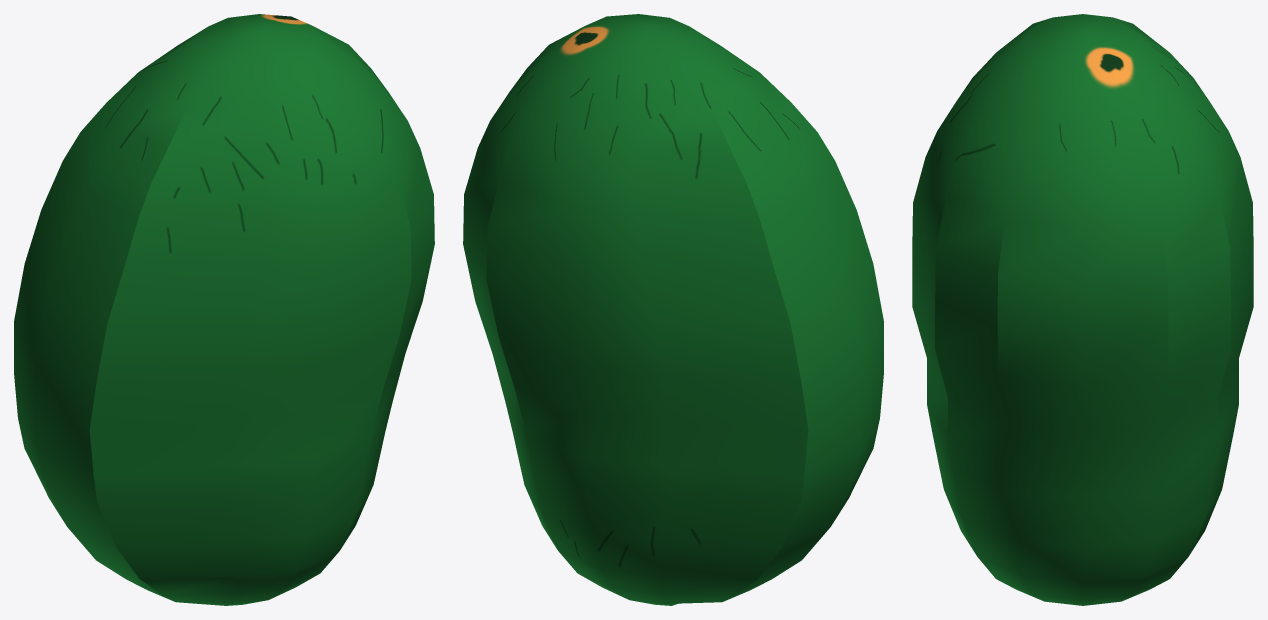
File: Mangue.fbx
The picture shows the model from 3 angles, left to right: view 1: azimuth 30°, elevation 25°; view 2: azimuth 150°, elevation 25°; view 3: azimuth 270°, elevation 25°; orthographic projection. The views are drawn at different scales.
Parts seen in each view (by area): view 1: Cylinder; view 2: Cylinder; view 3: Cylinder.
Boxes of the visible parts, bbox=[...] form: Cylinder: bbox=[14, 14, 434, 605]; Cylinder: bbox=[463, 14, 883, 605]; Cylinder: bbox=[912, 14, 1253, 605].
Bounding box in the file's own units: 215 × 304 × 163.
